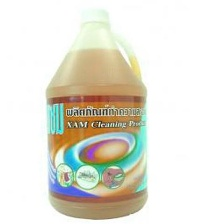cleaning_solution: (43, 8, 152, 222)
